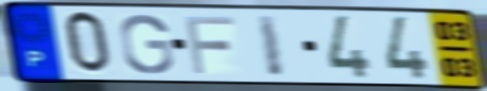0: (61, 9, 115, 79)
4: (325, 13, 376, 82), (383, 14, 434, 82)
F: (182, 14, 237, 76)
G: (117, 12, 176, 76)
I: (254, 13, 287, 79)
